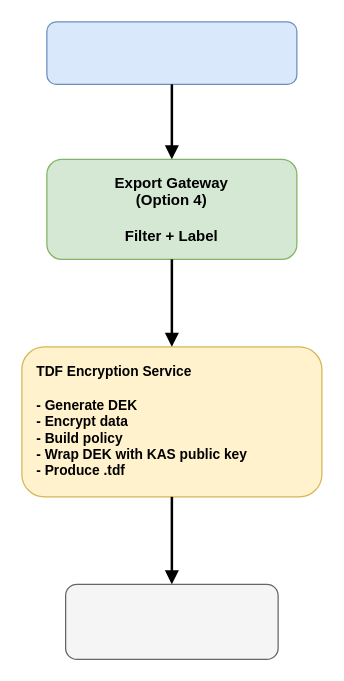
Image size: 344x681. Some labels were removed from this diagram. Each missing label, with the centre of its shape:
COBOL batch output: the point at 171,52
Delivery (FTP / email): the point at 171,621
